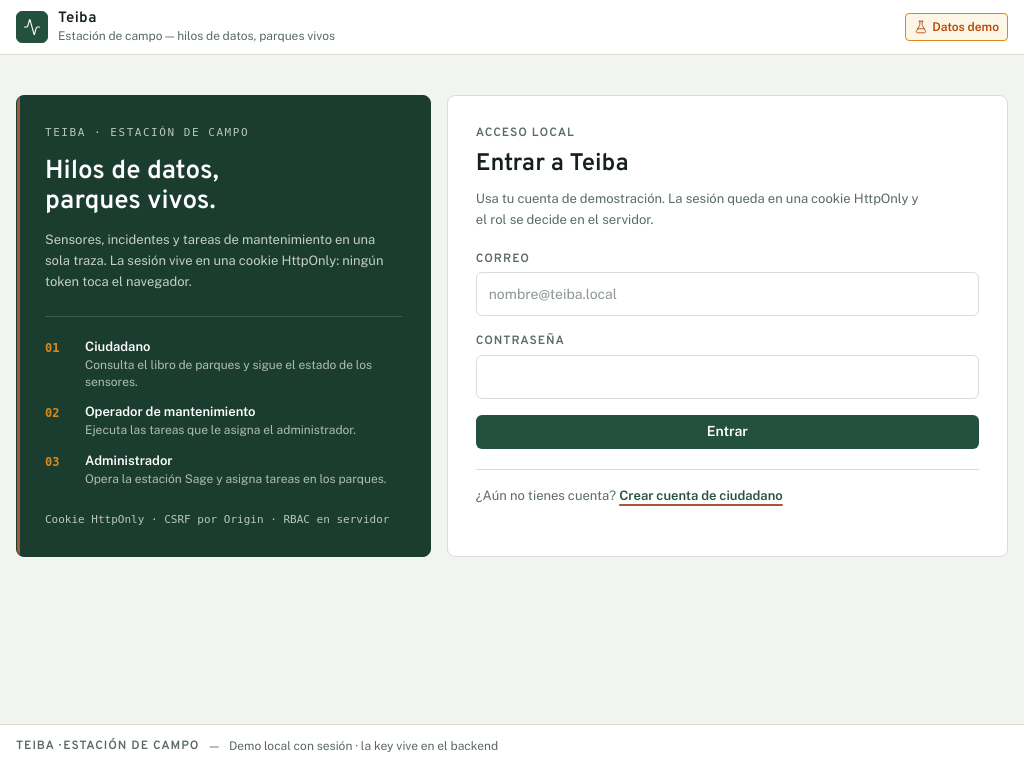
LoginView › muestra rate limit con su mensaje
The width and height of the screenshot is (1024, 768).
Expected: the heading "Entrar a Teiba" is shown, [476,149,629,179]
Type "admin@teiba.local" into the field labelled "Correo" at point(727, 294), box [476,272,979,316]
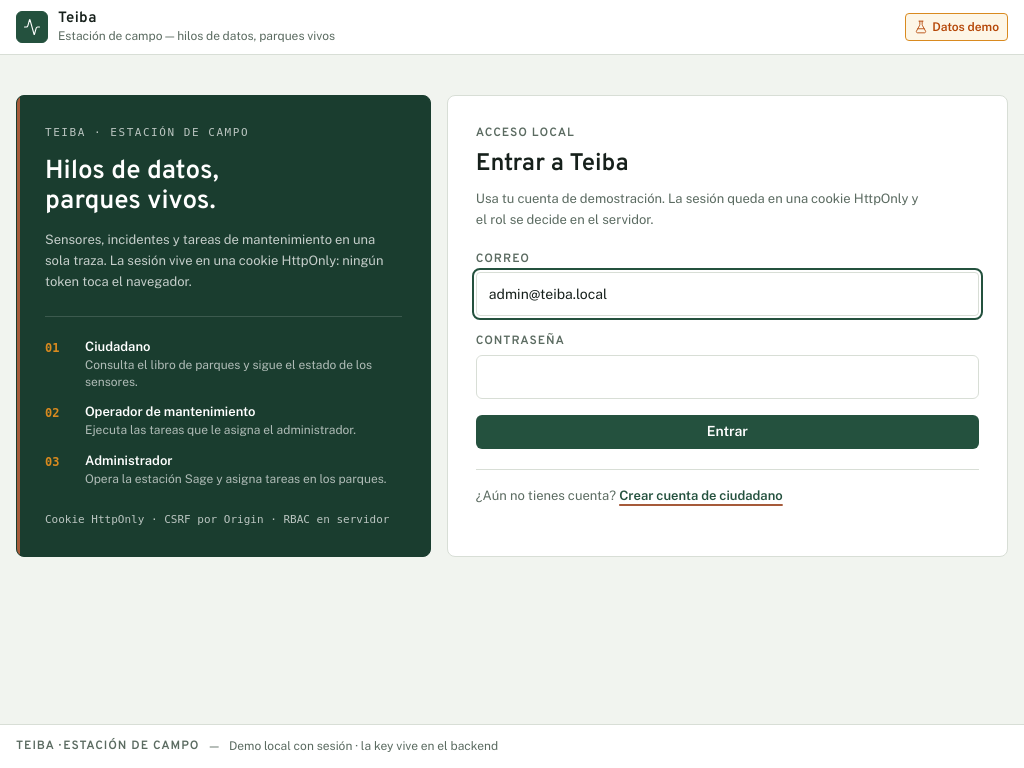
Type "admin12345678" into the password field labelled "Contraseña" at point(727, 377), box [476,355,979,399]
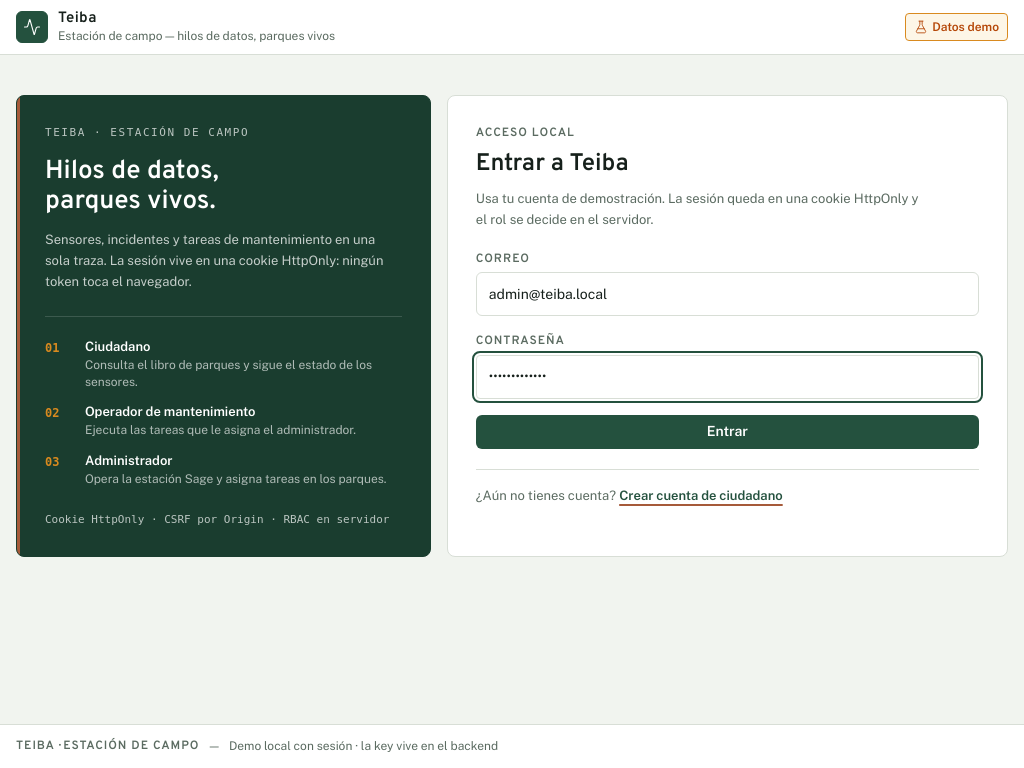
Click the button "Entrar" at point(727, 432), box [476,415,979,449]
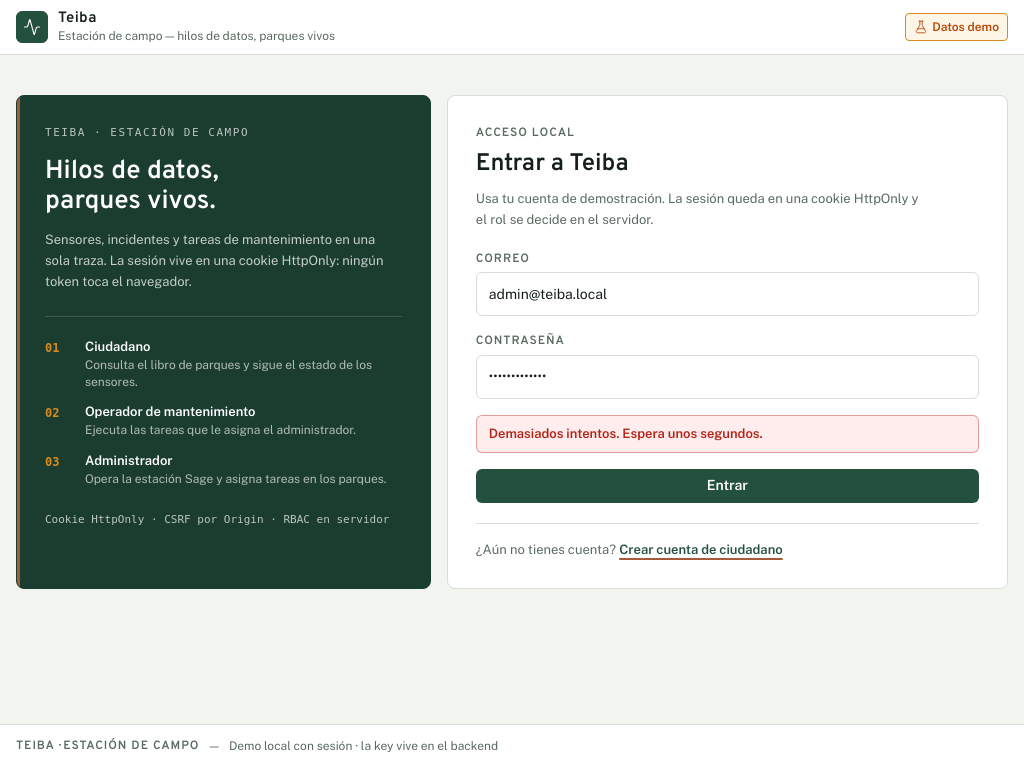
Expected: the message shows "Demasiados intentos", [489,426,763,441]
